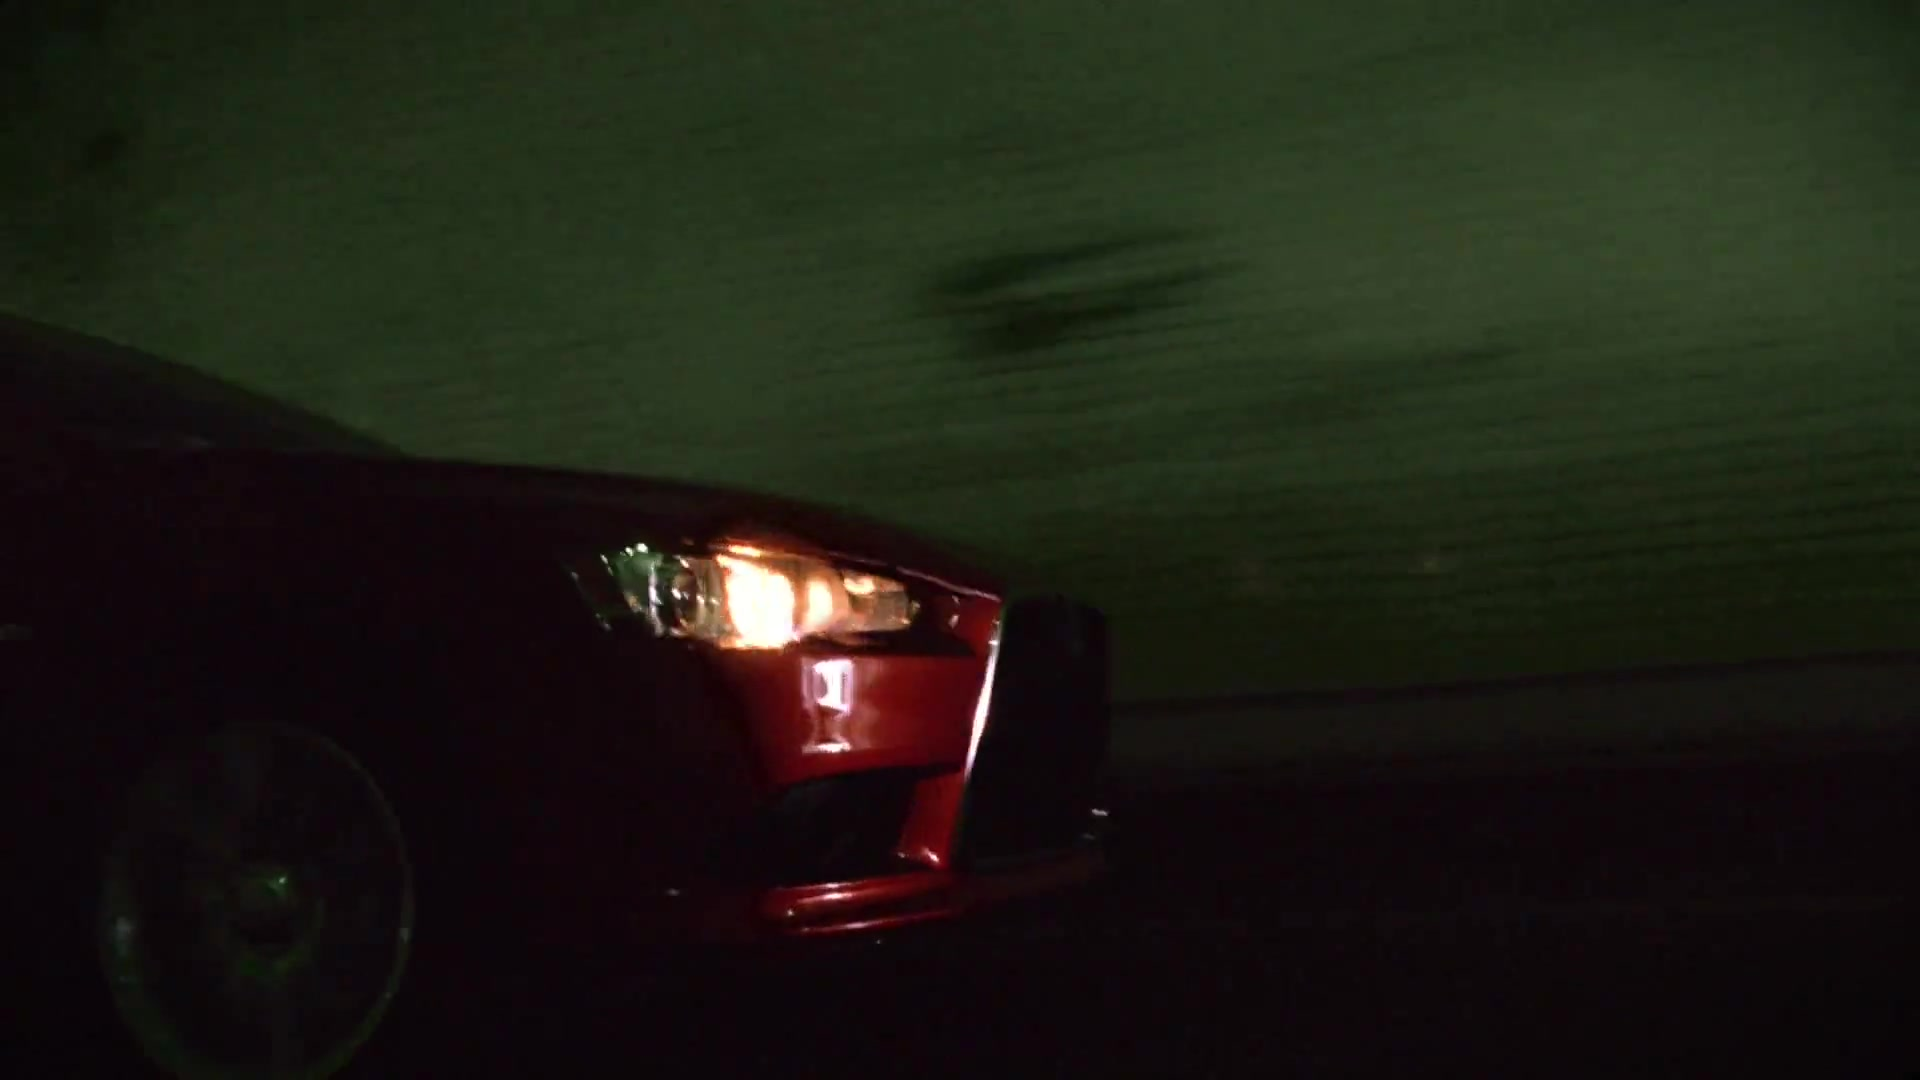car: (4, 309, 1133, 1080)
